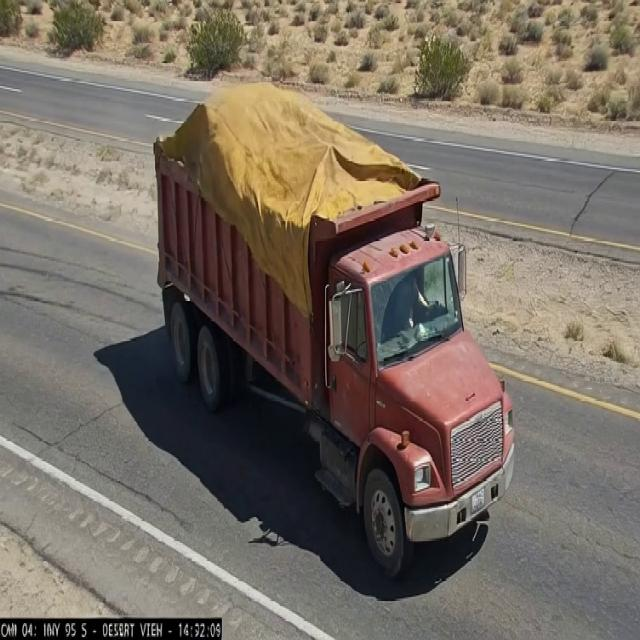Box: (150, 75, 474, 248)
Truck: (144, 42, 526, 505)
